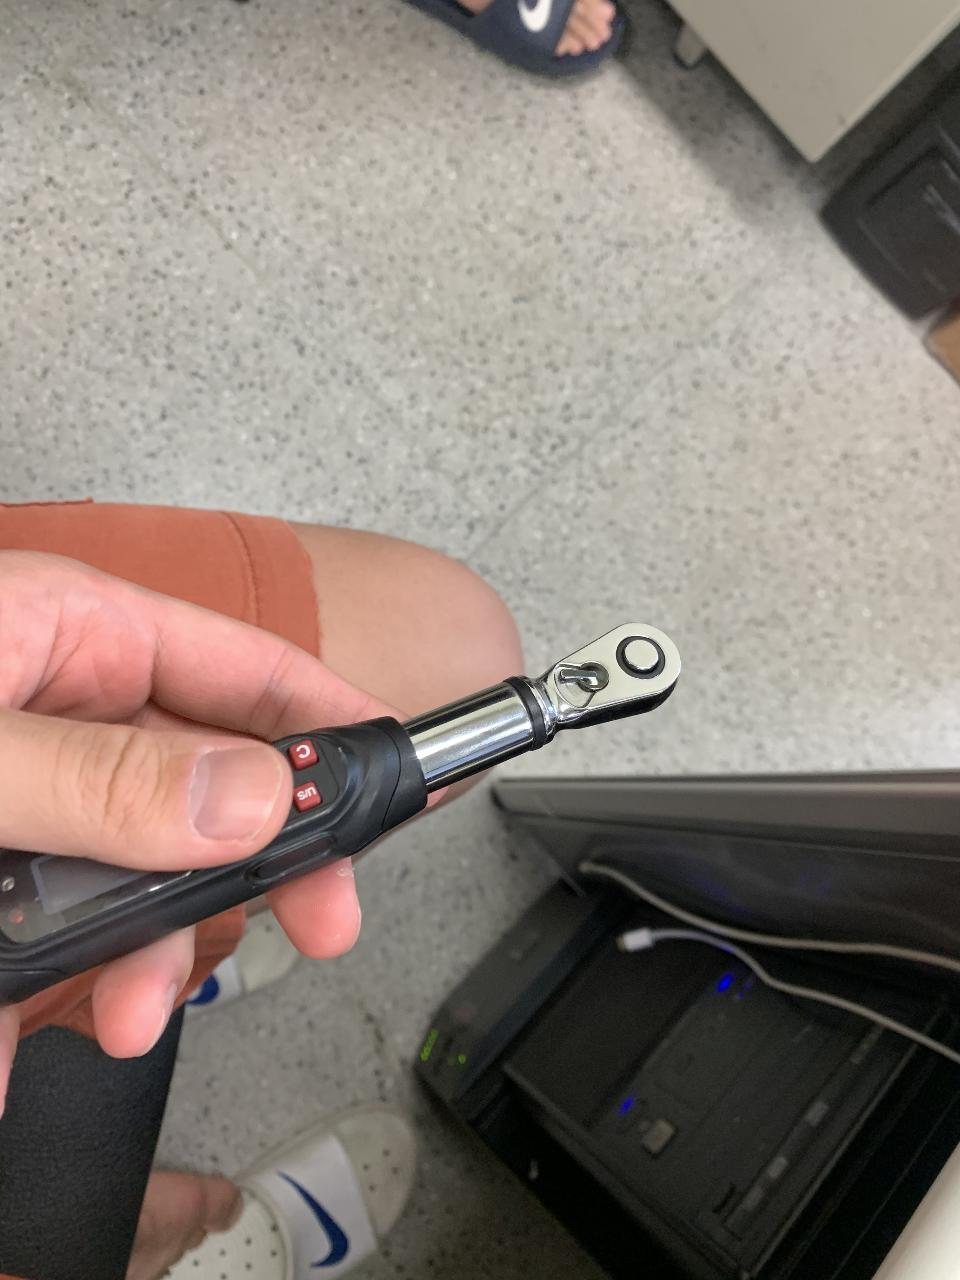Tool: (520, 619, 684, 737)
